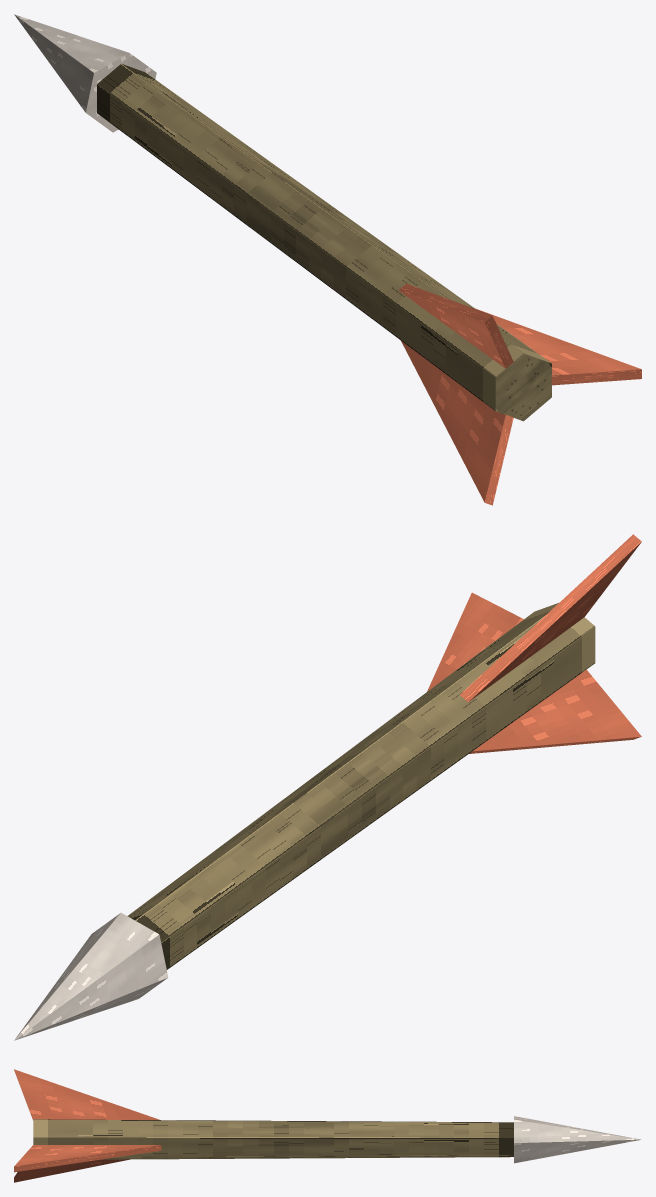
File: proj_needle.gltf
3 views of the same model, one above another, from view 1: azimuth 30°, elevation 25°; view 2: azimuth 150°, elevation 25°; view 3: azimuth 270°, elevation 25° (orthographic). The views are drawn at different scales.
Visible parts, largest first — view 1: shaft, glow; view 2: shaft, glow; view 3: shaft, glow.
Boxes of the visible parts, x1=… form: shaft: x1=97, y1=63, x2=551, y2=421; glow: x1=14, y1=14, x2=641, y2=505; shaft: x1=127, y1=603, x2=595, y2=969; glow: x1=14, y1=534, x2=641, y2=1040; shaft: x1=33, y1=1119, x2=513, y2=1159; glow: x1=14, y1=1069, x2=640, y2=1182.
Size of the model in its own units: 0.1693 by 0.1955 by 0.98.
Materials: 2 (2 with a texture image).
